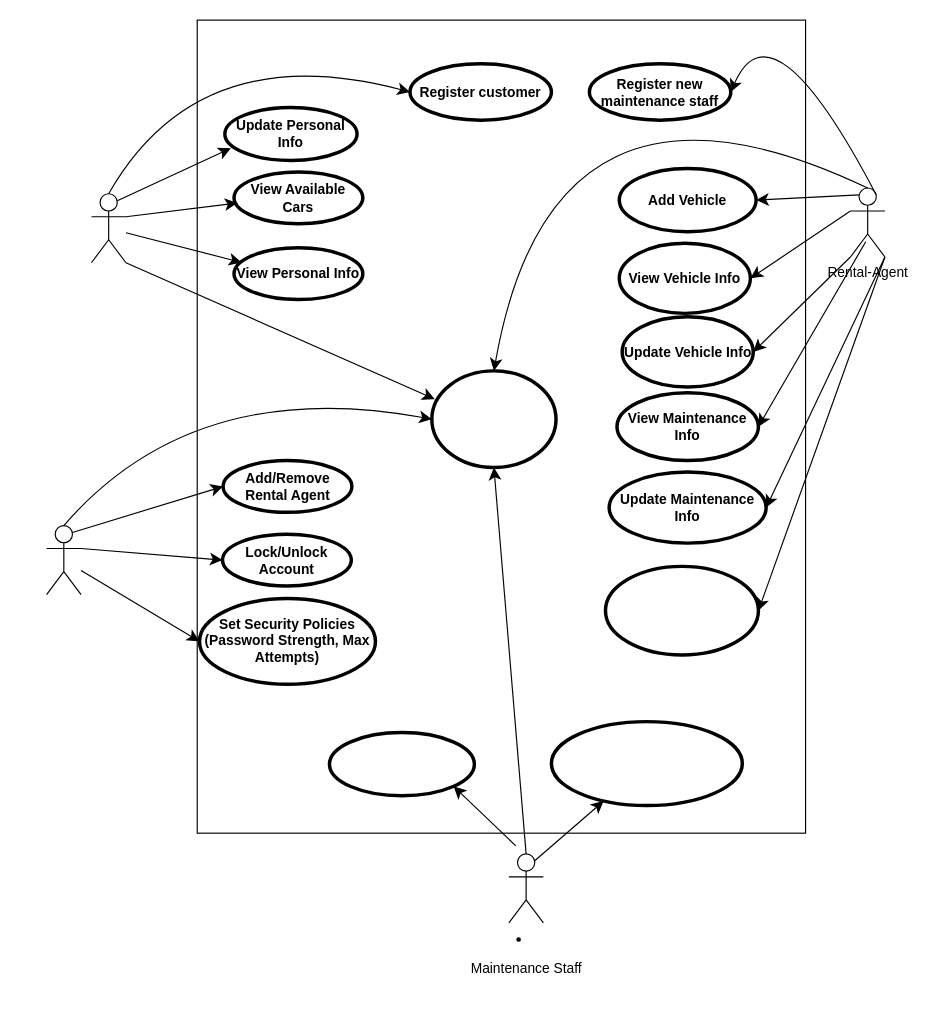
Some shapes in this 928 by 1012 pixel diagram are drawn without their labels. The shapes that lost their labels are listed below. From the top down, each one's centre as x and y in pixels, then its label:
At point (108, 228): "Customer".
At point (493, 419): "Login".
At point (63, 559): "System Admin".
At point (681, 610): "Update Vehicle Availability (available / rented / maintenance)".
At point (401, 763): "View Vehicles for Maintenance".
At point (646, 763): "Update Vehicle Status (maintenance / available)".
